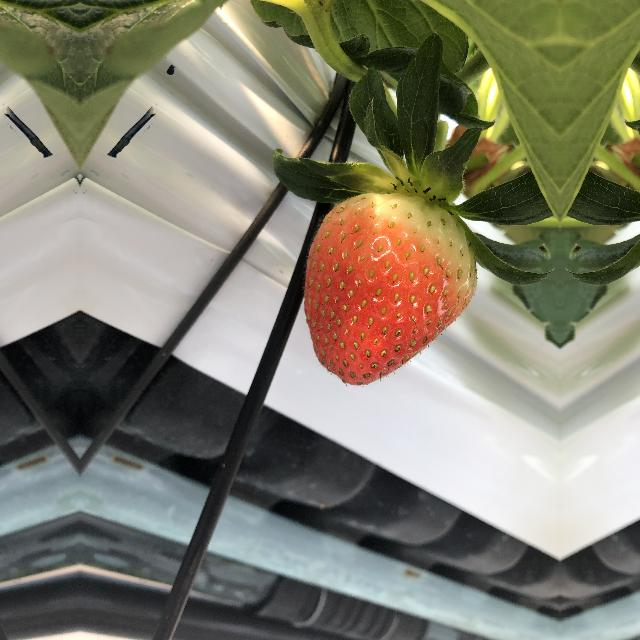Health_100: (295, 176, 487, 392)
